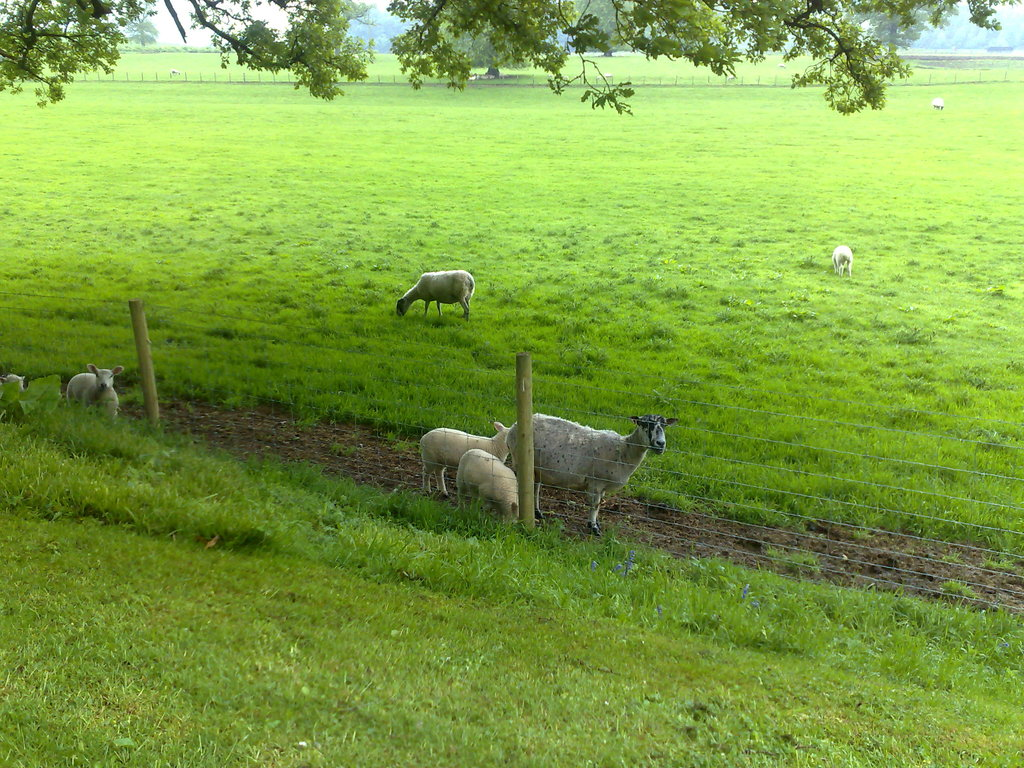sheep: (398, 272, 474, 313), (832, 245, 852, 276)
